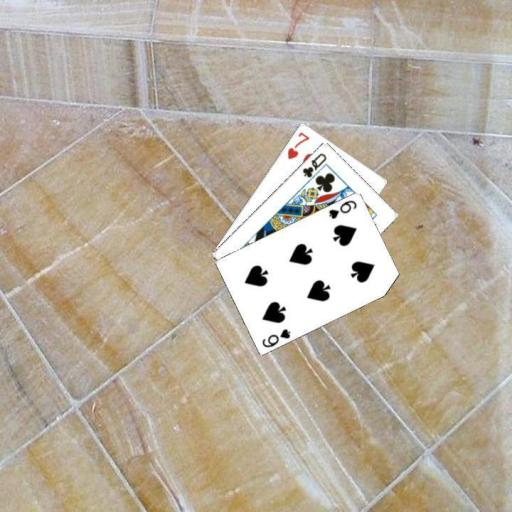card-corner: (299, 150, 328, 180), (284, 128, 310, 161), (259, 325, 292, 348), (326, 197, 358, 220)
